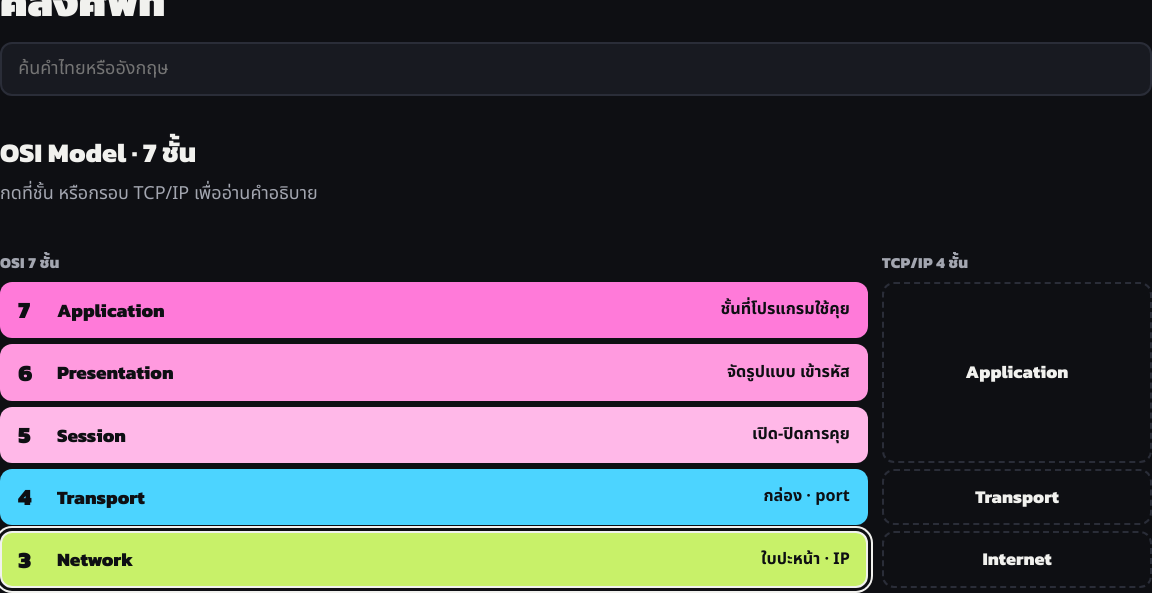
Test: GlossaryPage: ส่วน OSI › เริ่มต้นเลือกชั้น 3 และกดชั้นอื่นแล้วเห็นคำอธิบายของชั้นนั้น
Click the 1st button with class "osi-layer" at [111, 310], box x1=0 y1=282 x2=868 y2=338
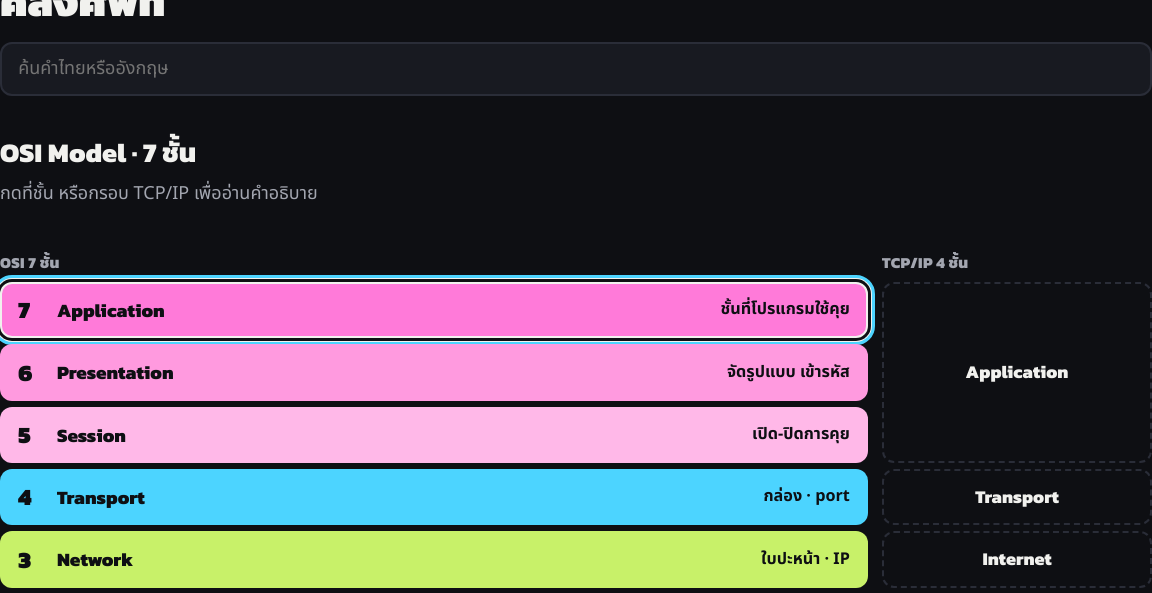
Now the button with class "osi-layer" is pressed, box x1=0 y1=282 x2=868 y2=338
Now the button with class "osi-layer" is not pressed
Click the button with class "osi-layer" showing "3 Network ใบปะหน้า · IP" at [95, 559], box x1=0 y1=531 x2=868 y2=588
(page scrolled)
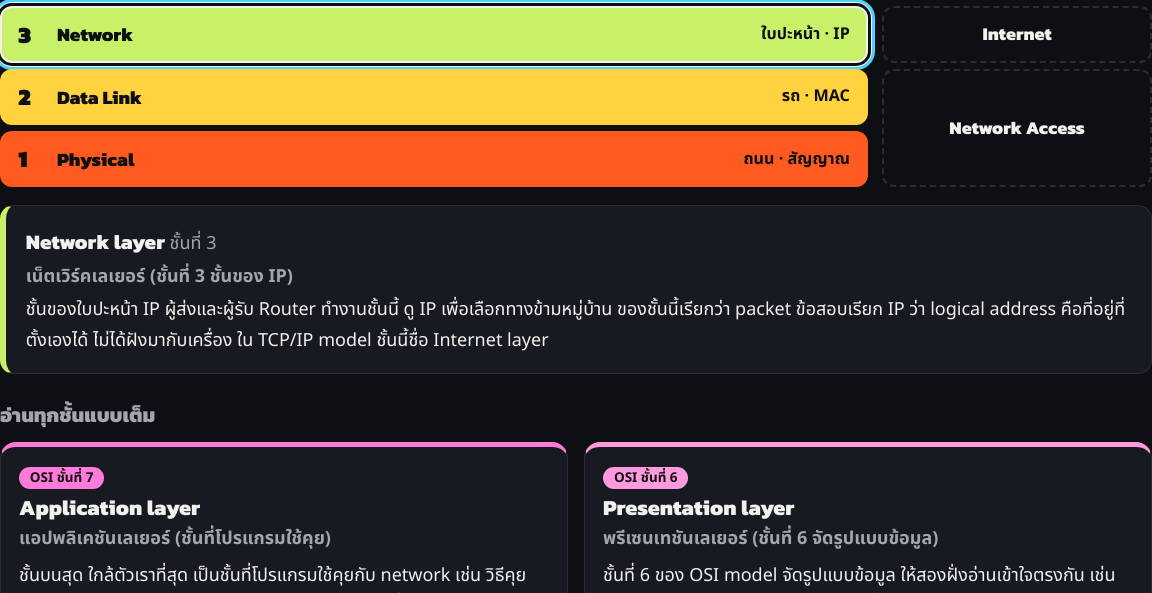
Now the text "เน็ตเวิร์คเลเยอร์ (ชั้นที่ 3 ชั้นของ IP)" is shown, box x1=26 y1=263 x2=293 y2=290
Now the text "ชั้นของใบปะหน้า IP ผู้ส่งและผู้รับ Router ทำงานชั้นนี้ ดู IP เพื่อเลือกทางข้ามหมู่บ้าน ของชั้นนี้เรียกว่า packet ข้อสอบเ" is shown, box x1=26 y1=296 x2=1125 y2=354
